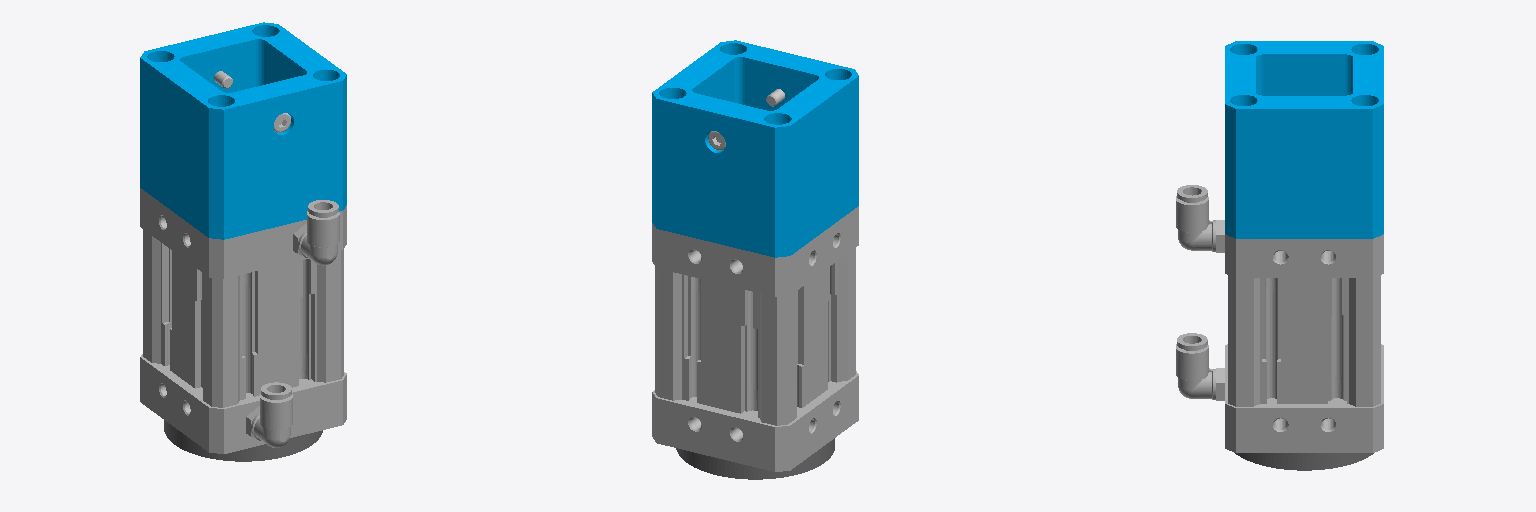
Rendered from Assembly_SMC_EE_ABB_IRB_120_Part_Bottom.obj.
3 views of the same model, side by side, from view 1: azimuth 30°, elevation 25°; view 2: azimuth 150°, elevation 25°; view 3: azimuth 270°, elevation 25° (orthographic).
Visible parts, largest first — view 1: Solid2:2, Solid1, Solid2:9, Solid2:8, Solid2:1; view 2: Solid2:2, Solid1, Solid2:1; view 3: Solid2:2, Solid1, Solid2:8, Solid2:9, Solid2:1.
Boxes of the visible parts, <box> form: Solid2:2: <box>140,188,346,453</box>; Solid1: <box>140,22,346,239</box>; Solid2:9: <box>246,382,292,447</box>; Solid2:8: <box>293,200,339,265</box>; Solid2:1: <box>164,420,322,461</box>; Solid2:2: <box>652,206,858,471</box>; Solid1: <box>652,40,858,257</box>; Solid2:1: <box>676,438,834,479</box>; Solid2:2: <box>1225,234,1383,452</box>; Solid1: <box>1225,41,1383,238</box>; Solid2:8: <box>1176,185,1224,252</box>; Solid2:9: <box>1176,333,1224,400</box>; Solid2:1: <box>1235,453,1373,470</box>.
Bounding box in the file's own units: 50 × 125 × 65.39.